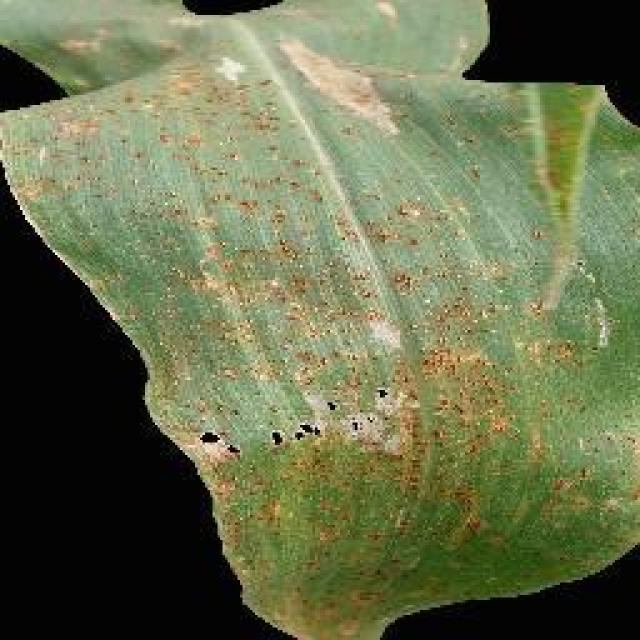Corn Common Rust: (70, 60, 522, 605)
